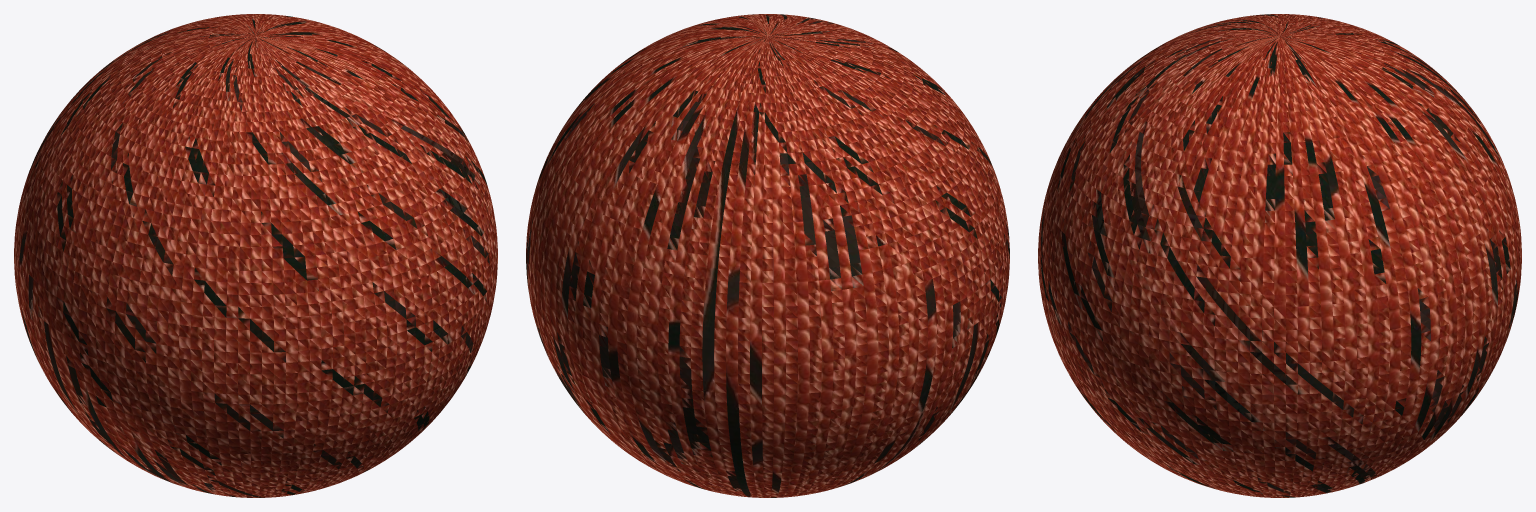
File: ball.dae
3 renders of one model, left to right at view 1: azimuth 30°, elevation 25°; view 2: azimuth 150°, elevation 25°; view 3: azimuth 270°, elevation 25°, orthographic.
Visible parts, largest first — view 1: node; view 2: node; view 3: node.
Boxes of the visible parts, left/top/right/bottom form: node: left=14, top=14, right=497, bottom=497; node: left=526, top=14, right=1009, bottom=497; node: left=1038, top=14, right=1521, bottom=497.
Size of the model in its own units: 160 by 160 by 160.
1 material, 1 textured.
